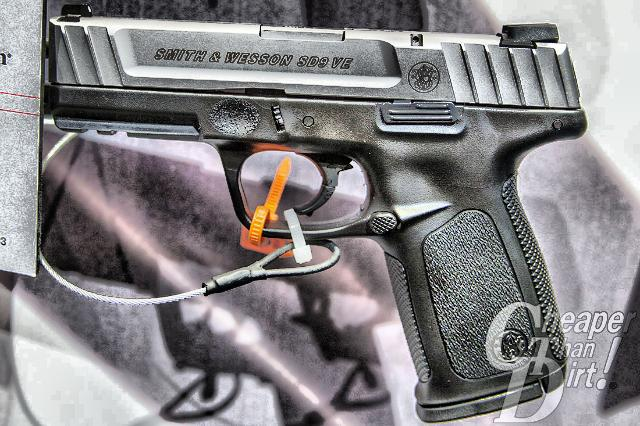pistol: (44, 3, 586, 421)
